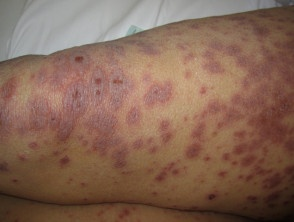SJS-TEN: (0, 9, 294, 210)
